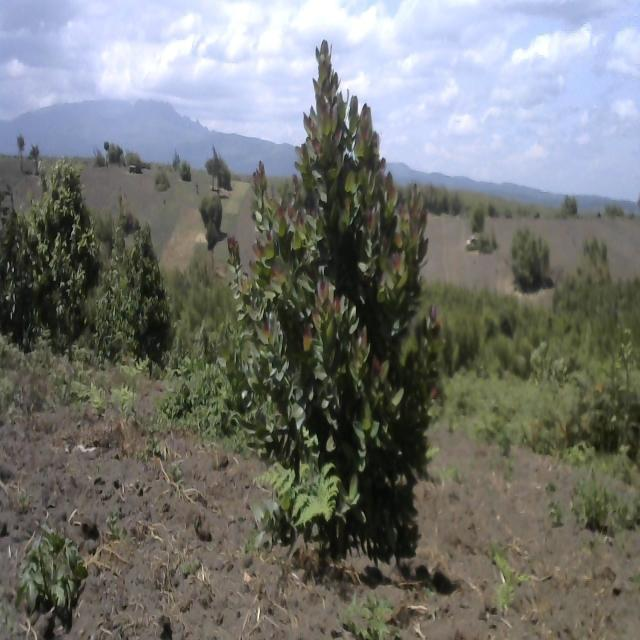Hass Avocado: (22, 149, 96, 343)
other: (221, 26, 439, 561), (194, 189, 228, 251)
